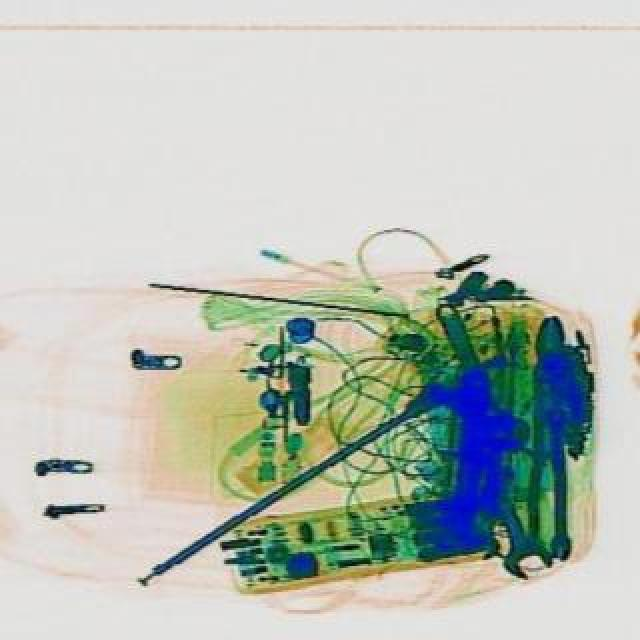scissors: (408, 290, 536, 466), (464, 478, 552, 584)
